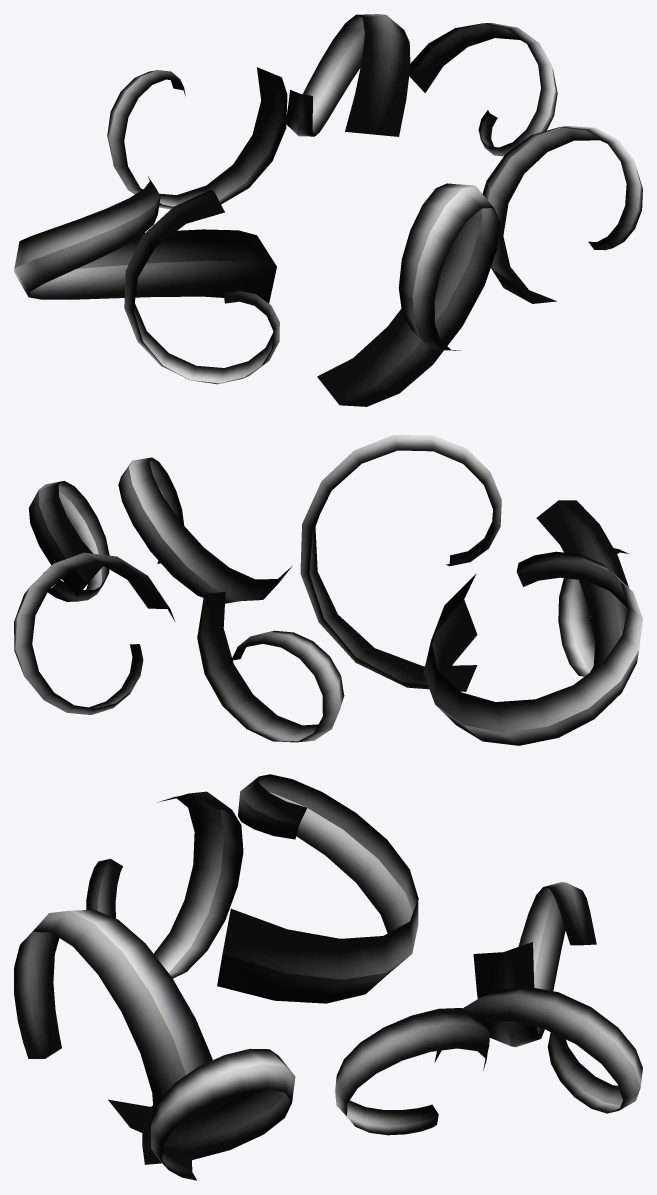
The model's file is vfx_kurp_0215.dae.
3 views of the same model, one above another, from view 1: azimuth 30°, elevation 25°; view 2: azimuth 150°, elevation 25°; view 3: azimuth 270°, elevation 25° (orthographic). The views are drawn at different scales.
Parts seen in each view (by area): view 1: vfx_kurp_0215; view 2: vfx_kurp_0215; view 3: vfx_kurp_0215.
Part boxes in pixels (<box>): vfx_kurp_0215: <box>14,14,642,406</box>; vfx_kurp_0215: <box>14,435,642,745</box>; vfx_kurp_0215: <box>14,774,642,1180</box>.
Bounding box in the file's own units: 14.4 × 12.66 × 5.65.
Materials: 1 (1 with a texture image).
